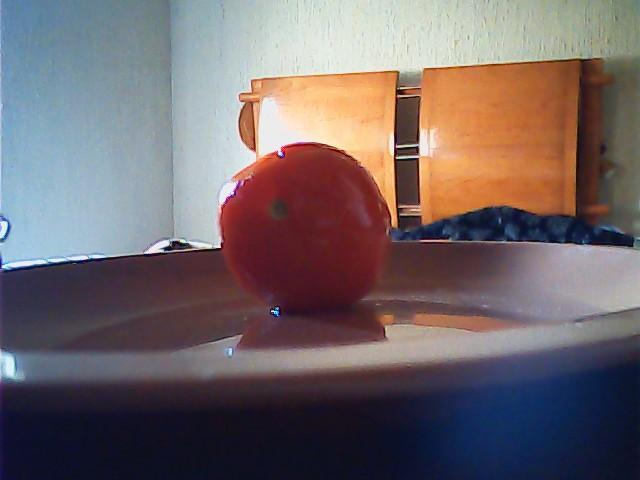maduro: (219, 141, 391, 315)
